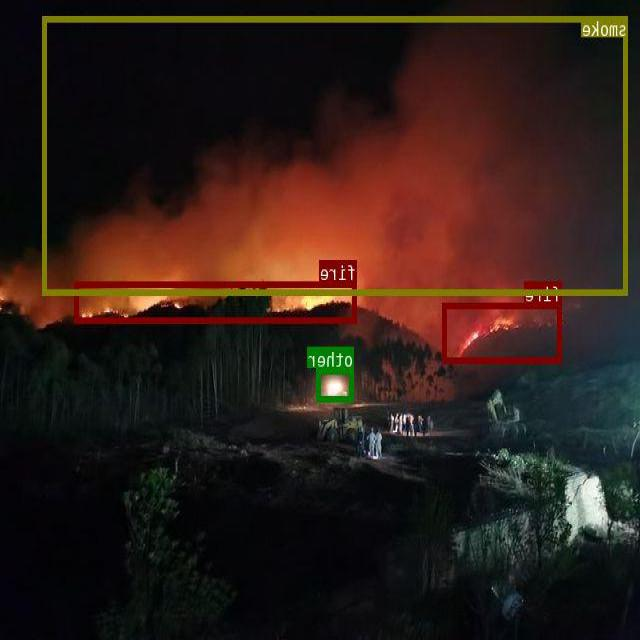fire: (76, 280, 357, 322), (443, 302, 562, 362)
other: (318, 368, 355, 401)
smoke: (44, 15, 628, 294)
